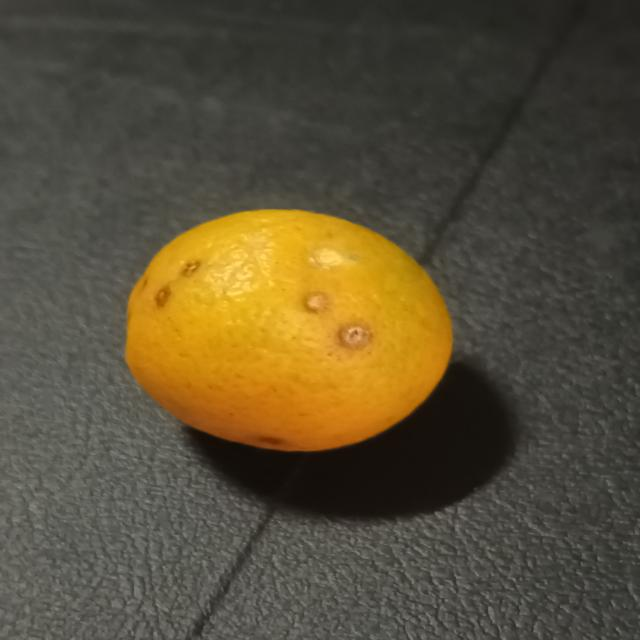black spot: (123, 206, 458, 456)
